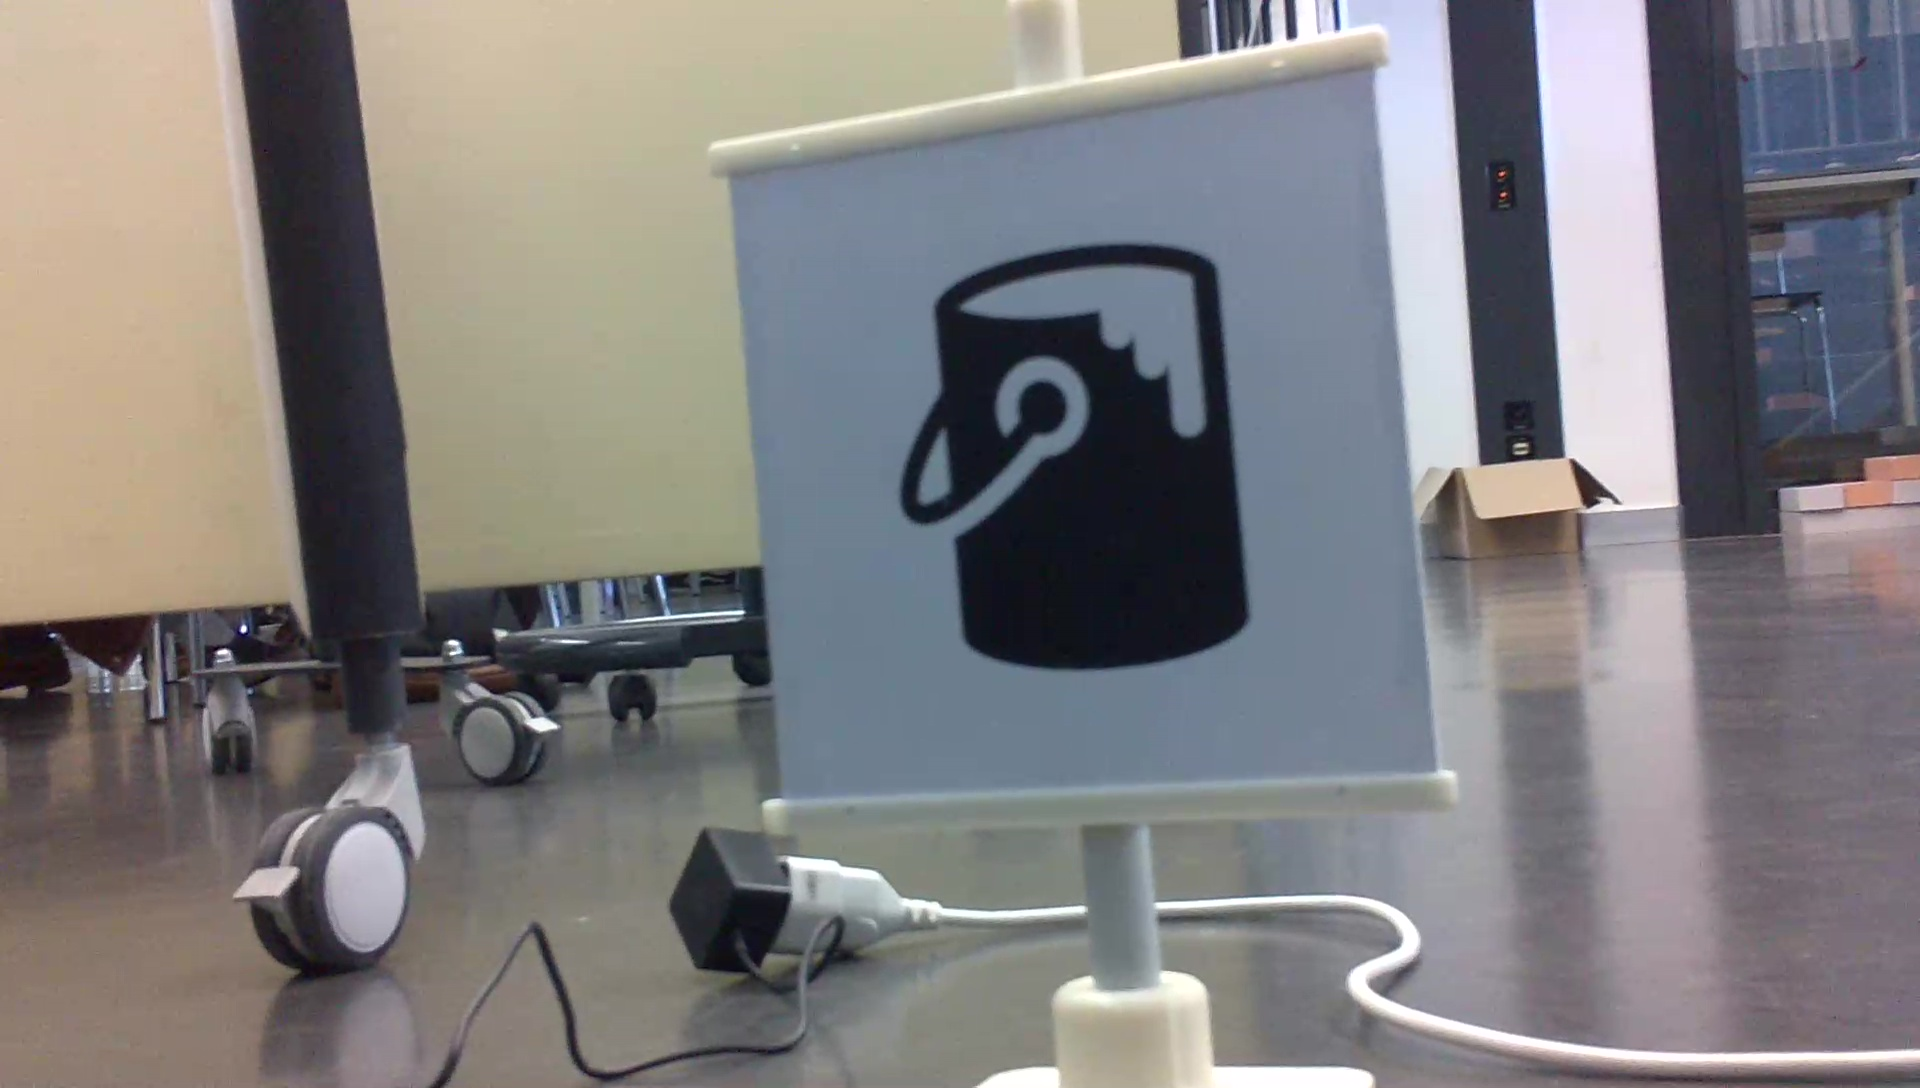bucket: (890, 233, 1262, 683)
